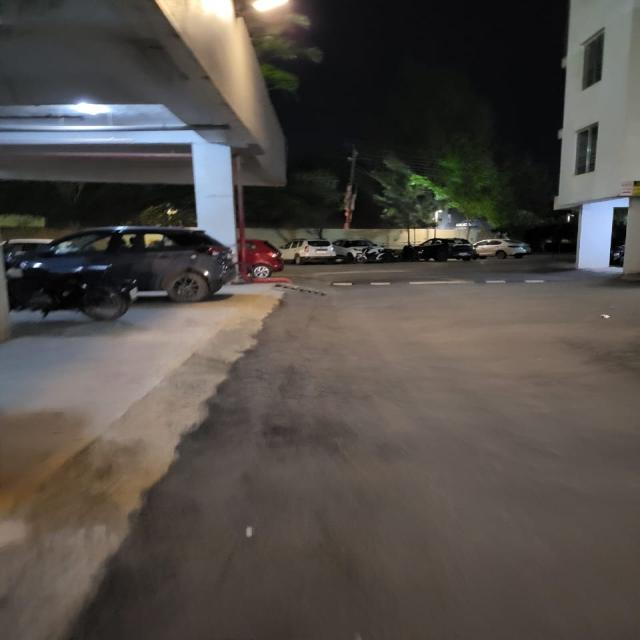bike: (2, 244, 129, 330), (355, 247, 395, 266)
car: (73, 219, 236, 304), (278, 236, 335, 268), (476, 237, 530, 262), (421, 238, 474, 263), (332, 239, 381, 262)
